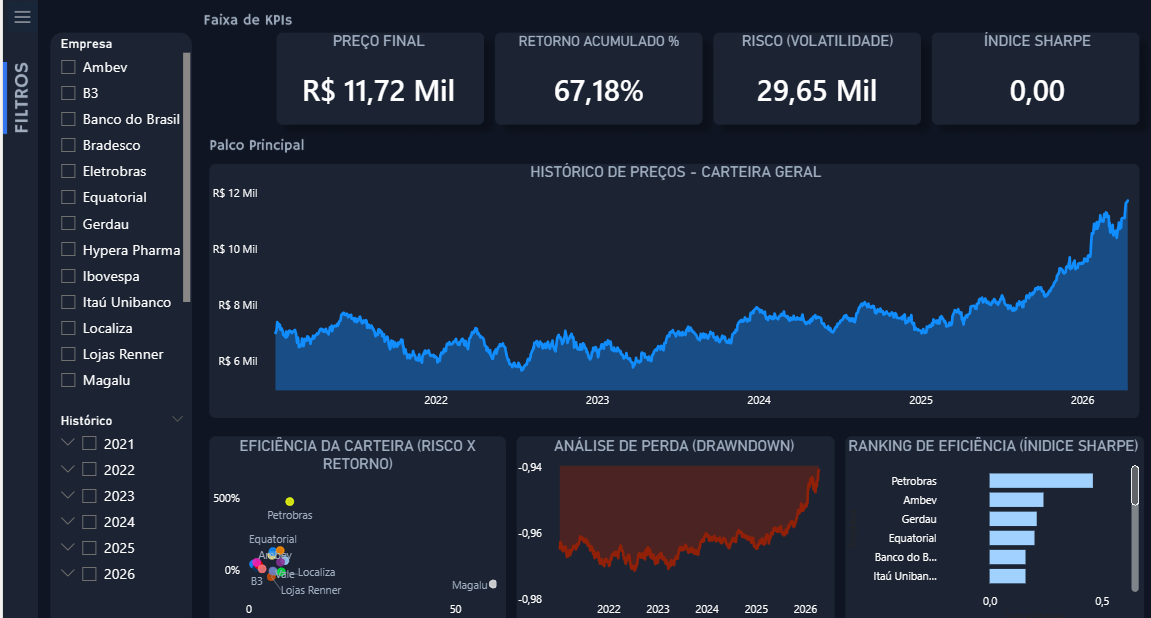

What the dashboard file says about the page in this screenshot:
{"tool":"powerbi","page":{"name":"Página 1","canvas":[1280,720],"ordinal":0},"visuals":[{"type":"cardVisual","title":"RETORNO ACUMULADO %","fields":{"Data":["_Medidas Financeiras.Retorno Acumulado %"]},"box":[545.9,39.2,233.1,106.2],"z":0},{"type":"slicer","fields":{"Values":["dim_ativos.Empresa"]},"box":[50.8,39.2,161.6,408.6],"z":1000},{"type":"cardVisual","title":"PREÇO FINAL","fields":{"Data":["_Medidas Financeiras.Preco Final"]},"box":[303.6,39.2,228.5,106.2],"z":2000},{"type":"cardVisual","title":"ÍNDICE SHARPE","fields":{"Data":["_Medidas Financeiras.Índice Sharpe"]},"box":[1030.7,39.2,236.6,106.2],"z":3000},{"type":"cardVisual","title":"RISCO (VOLATILIDADE)","fields":{"Data":["_Medidas Financeiras.Risco (Volatilidade)"]},"box":[789.5,39.2,229.7,106.2],"z":4000},{"type":"lineChart","fields":{"Category":["fato_cotacoes.Data"],"Y":["_Medidas Financeiras.Preco Final"]},"box":[227.4,184.7,1039.9,281.6],"z":5000},{"type":"scatterChart","title":"EFICIÊNCIA DA CARTEIRA (RISCO X RETORNO)","fields":{"X":["_Medidas Financeiras.Risco (Volatilidade)"],"Y":["_Medidas Financeiras.Retorno Acumulado %"],"Category":["dim_ativos.Empresa"]},"box":[227.4,489.4,332.4,210.1],"z":6000},{"type":"clusteredBarChart","title":"RANKING DE EFICIÊNCIA (ÍNIDICE SHARPE)","fields":{"Category":["dim_ativos.Empresa"],"Y":["_Medidas Financeiras.Índice Sharpe"]},"box":[933.7,489.4,333.6,210.1],"z":7000},{"type":"areaChart","title":"ANÁLISE DE PERDA (DRAWNDOWN)","fields":{"Category":["fato_cotacoes.Data"],"Y":["_Medidas Financeiras.Drawdown %"]},"box":[566.7,489.4,357.8,210.1],"z":8000},{"type":"slicer","fields":{"Values":["fato_cotacoes.Data.Variation.Hierarquia de datas.Ano","fato_cotacoes.Data.Variation.Hierarquia de datas.Mês","fato_cotacoes.Data.Variation.Hierarquia de datas.Dia"]},"box":[50.8,458.2,161.6,237.8],"z":9000}]}

Visuals, with their boxes on the page's 1280x720 design canvas (x1, y1, x2, y2). These are canvas units, not pixel positions in the 1151x618 screenshot, which may show the page scaled, cropped or inside an application window:
"RETORNO ACUMULADO %" cardVisual: pyautogui.locateOnScreen(546, 39, 779, 145)
slicer - dim_ativos.Empresa: pyautogui.locateOnScreen(51, 39, 212, 448)
"PREÇO FINAL" cardVisual: pyautogui.locateOnScreen(304, 39, 532, 145)
"ÍNDICE SHARPE" cardVisual: pyautogui.locateOnScreen(1031, 39, 1267, 145)
"RISCO (VOLATILIDADE)" cardVisual: pyautogui.locateOnScreen(790, 39, 1019, 145)
lineChart - fato_cotacoes.Data x _Medidas Financeiras.Preco Final: pyautogui.locateOnScreen(227, 185, 1267, 466)
"EFICIÊNCIA DA CARTEIRA (RISCO X RETORNO)" scatterChart: pyautogui.locateOnScreen(227, 489, 560, 700)
"RANKING DE EFICIÊNCIA (ÍNIDICE SHARPE)" clusteredBarChart: pyautogui.locateOnScreen(934, 489, 1267, 700)
"ANÁLISE DE PERDA (DRAWNDOWN)" areaChart: pyautogui.locateOnScreen(567, 489, 924, 700)
slicer - fato_cotacoes.Data.Variation.Hierarquia de datas.Ano x fato_cotacoes.Data.Variation.Hierarquia de datas.Mês: pyautogui.locateOnScreen(51, 458, 212, 696)
